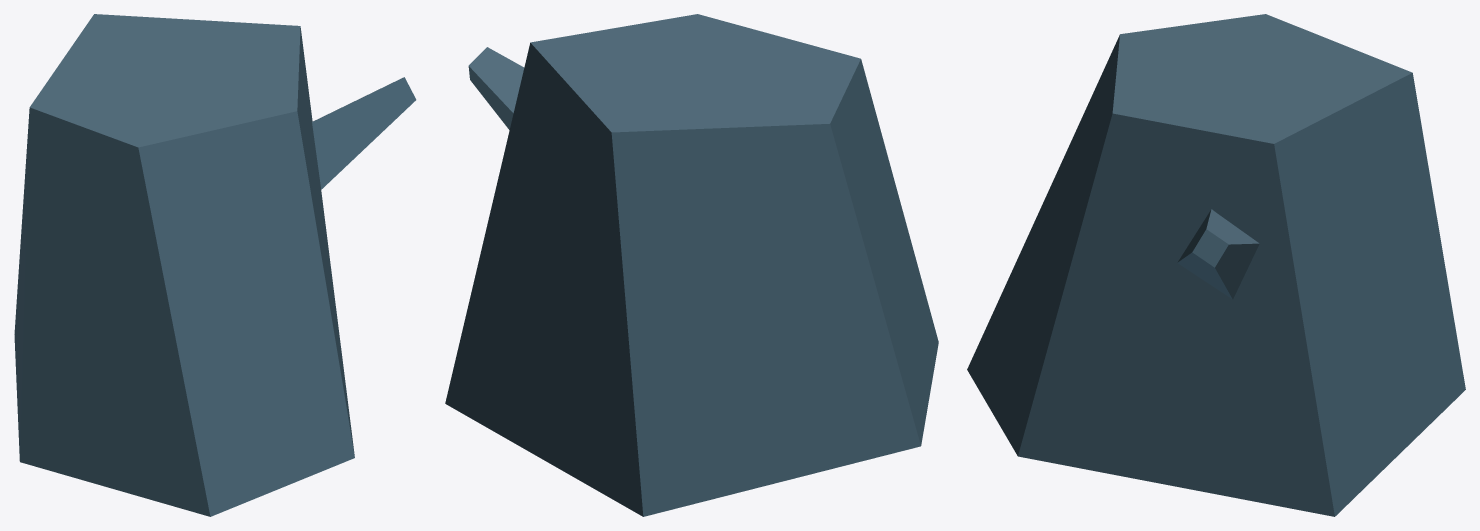
Rendered from StumpAutumn1_Alt3.fbx.
3 renders of one model, left to right at view 1: azimuth 30°, elevation 25°; view 2: azimuth 150°, elevation 25°; view 3: azimuth 270°, elevation 25°, orthographic. The views are drawn at different scales.
Visible parts, largest first — view 1: StumpAutumn1_Alt3; view 2: StumpAutumn1_Alt3; view 3: StumpAutumn1_Alt3.
Boxes of the visible parts, bbox=[...] form: StumpAutumn1_Alt3: bbox=[14, 14, 416, 516]; StumpAutumn1_Alt3: bbox=[445, 14, 938, 516]; StumpAutumn1_Alt3: bbox=[967, 14, 1465, 516].
Bounding box in the file's own units: 0.5186 × 0.3998 × 0.5206.
